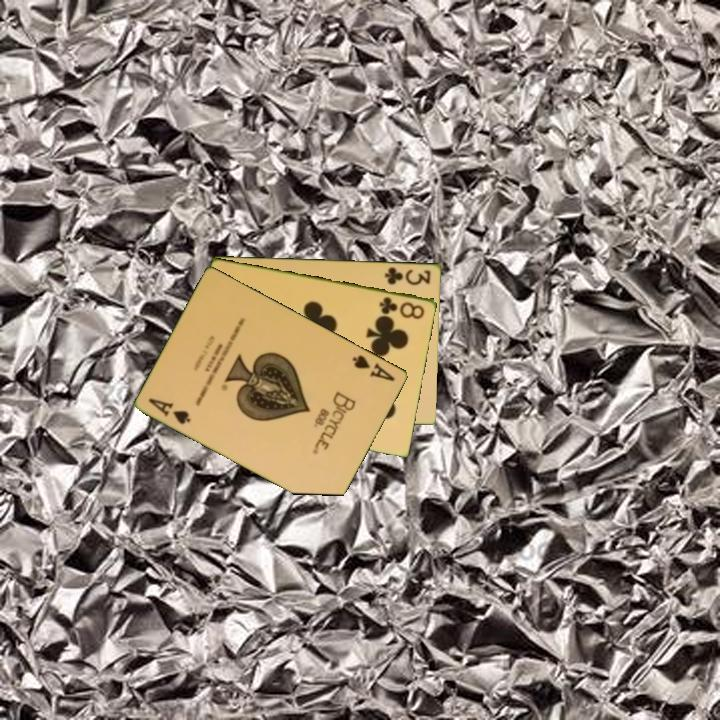3c: (382, 263, 433, 288)
8c: (376, 293, 428, 322)
As: (349, 351, 398, 384), (145, 394, 194, 427)
